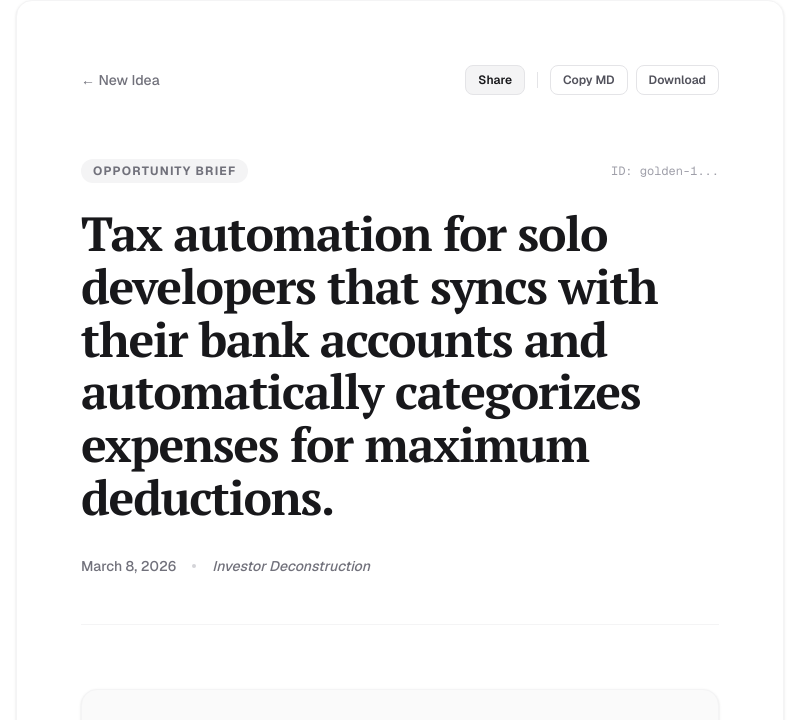
Test: ReportView › should copy markdown to clipboard when "Copy MD" is clicked
The width and height of the screenshot is (801, 720).
Step 1. Click the button "Copy MD" → [589, 80], box [550,65,628,95]
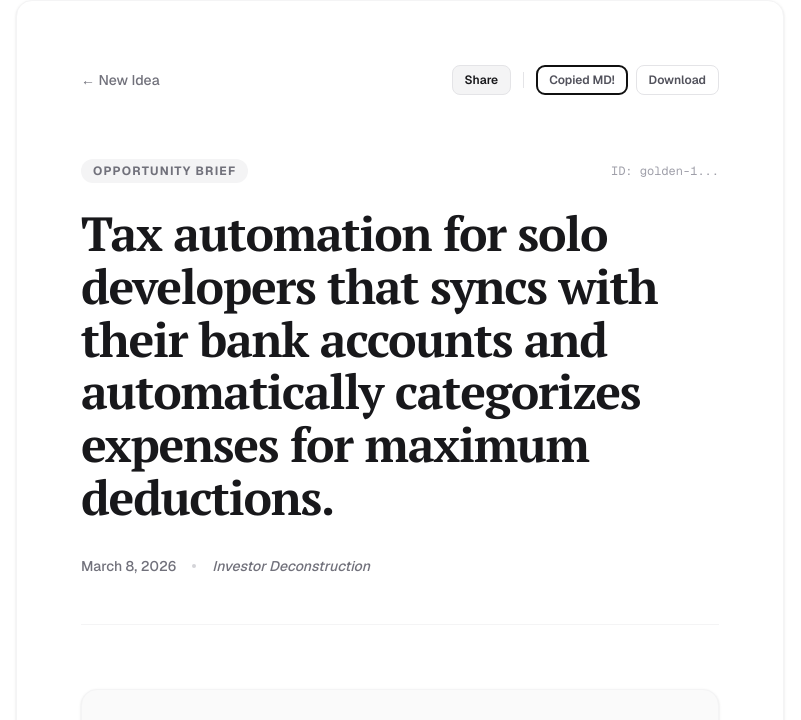
Check: the button "Copied MD!" is shown, box [536,65,628,95]
